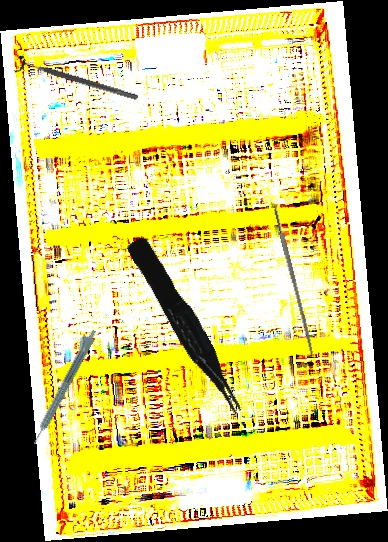Fixation Ring: (13, 54, 141, 107)
Handpiece: (25, 326, 99, 446)
Scalpel Handle: (272, 207, 316, 355)
Tissue Forceps: (125, 231, 247, 424)
